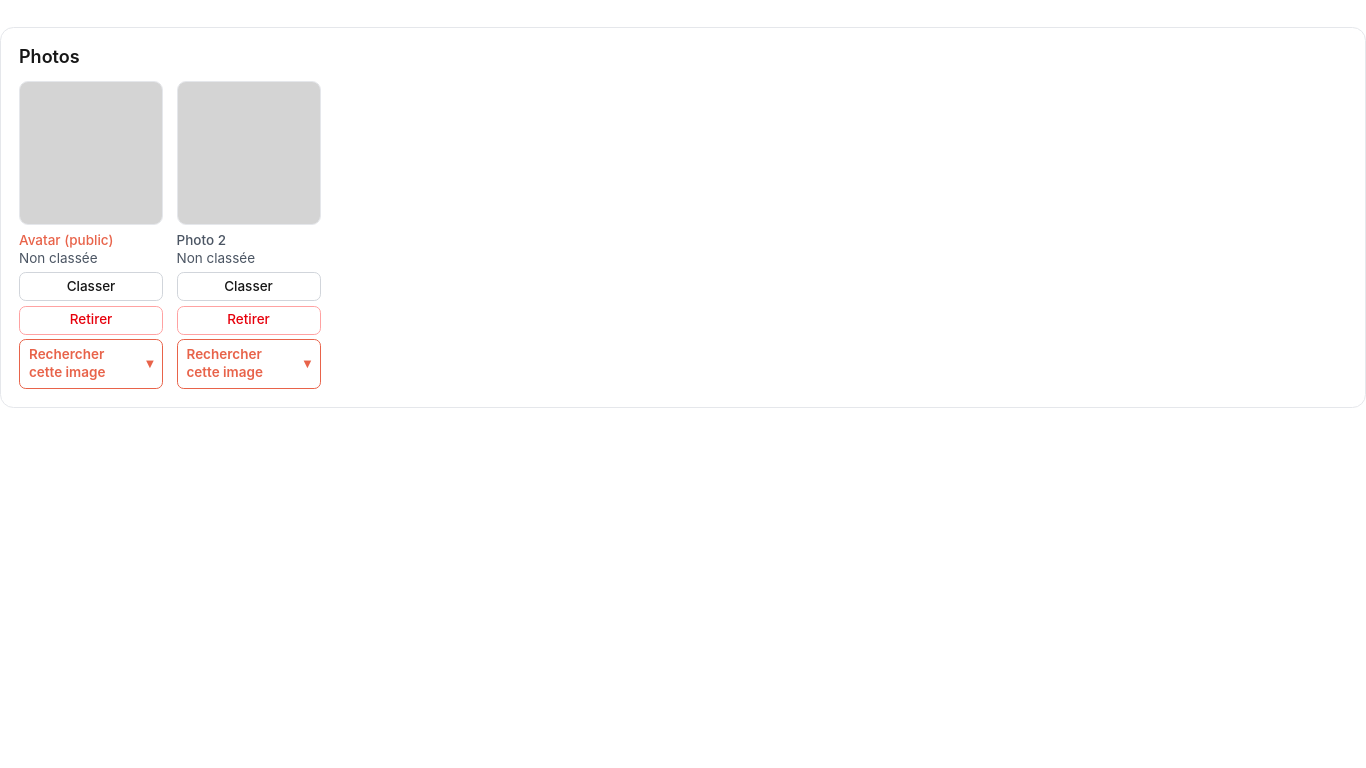
it: <AdminUserPhotos /> › prévient que retirer l'avatar promeut la photo suivante
The width and height of the screenshot is (1366, 768).
Click the button "Retirer" below "Avatar (public)": click(91, 320) [19, 306, 163, 335]
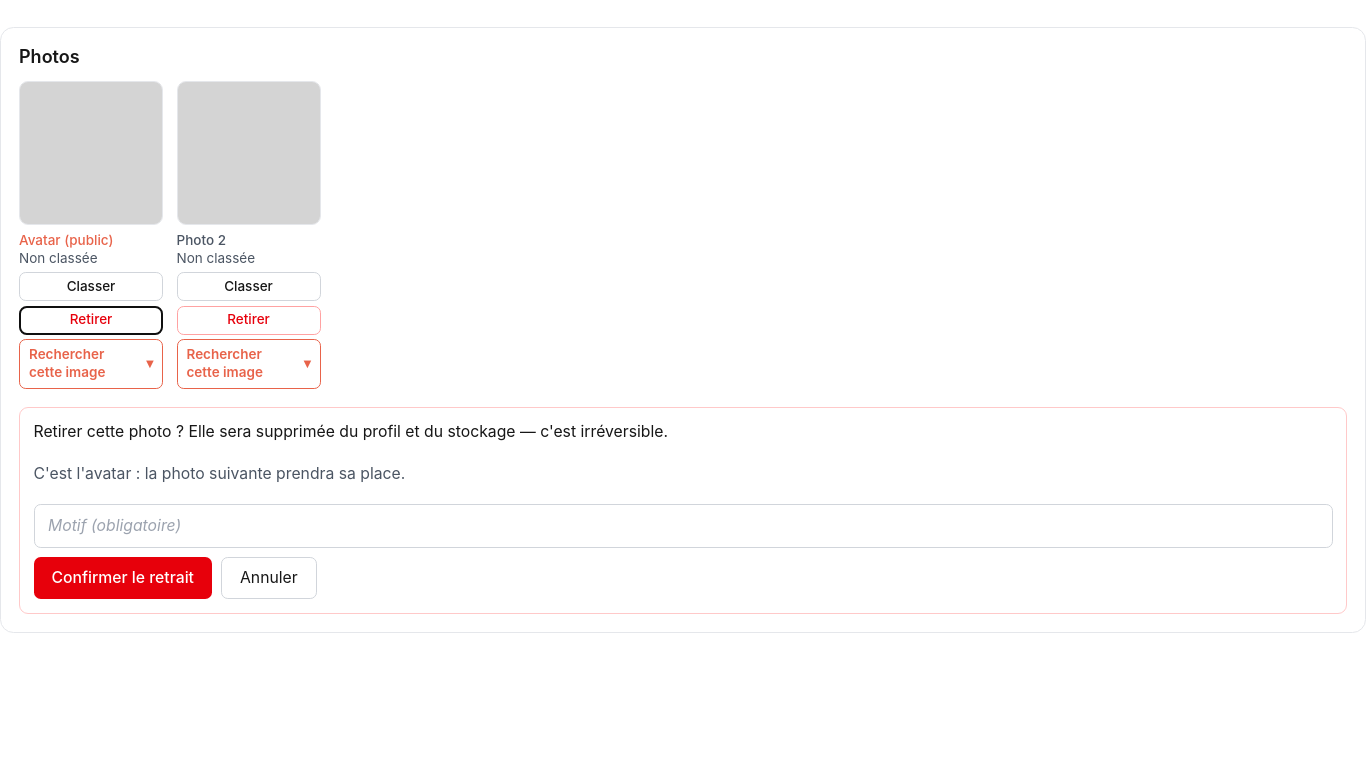
Expected: the text "C'est l'avatar : la photo suivante prendra sa place." is shown, [34, 464, 405, 483]
